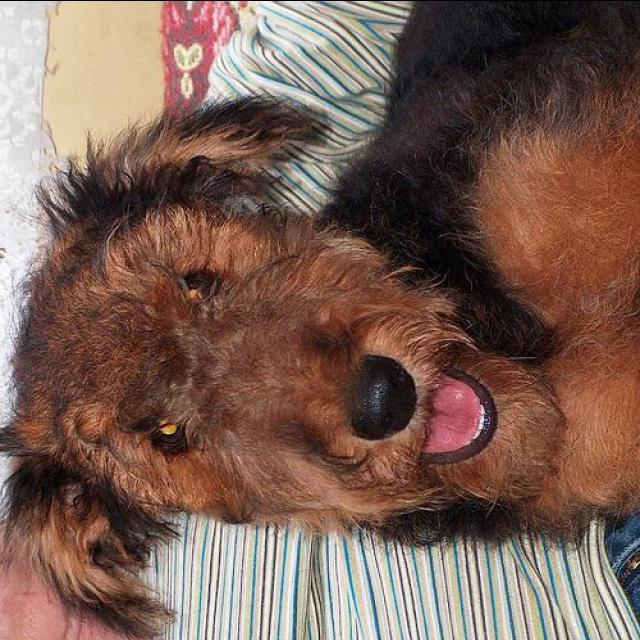airedale: (2, 3, 637, 640)
